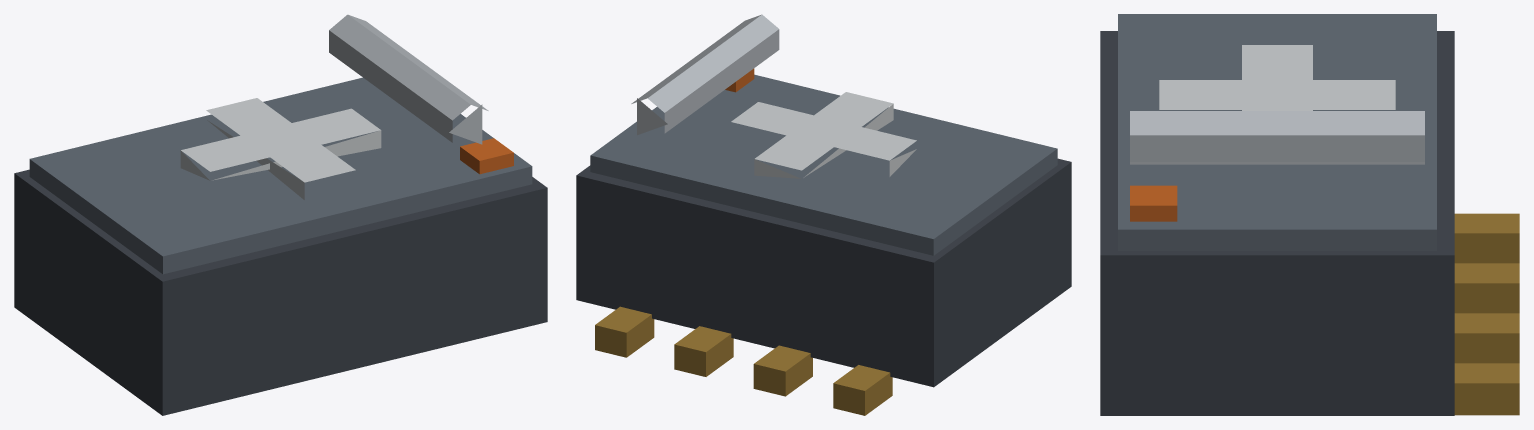
Rendered from droid-medic.lod.glb.
3 views of the same model, side by side, from view 1: azimuth 30°, elevation 25°; view 2: azimuth 150°, elevation 25°; view 3: azimuth 270°, elevation 25° (orthographic). The views are drawn at different scales.
Parts seen in each view (by area): view 1: m; view 2: m; view 3: m.
Boxes of the visible parts, x1,y1,x2,y2 form: m: (14, 14, 547, 415); m: (576, 14, 1071, 415); m: (1100, 14, 1519, 415).
Size of the model in its own units: 0.1 by 0.0611 by 0.0789.
